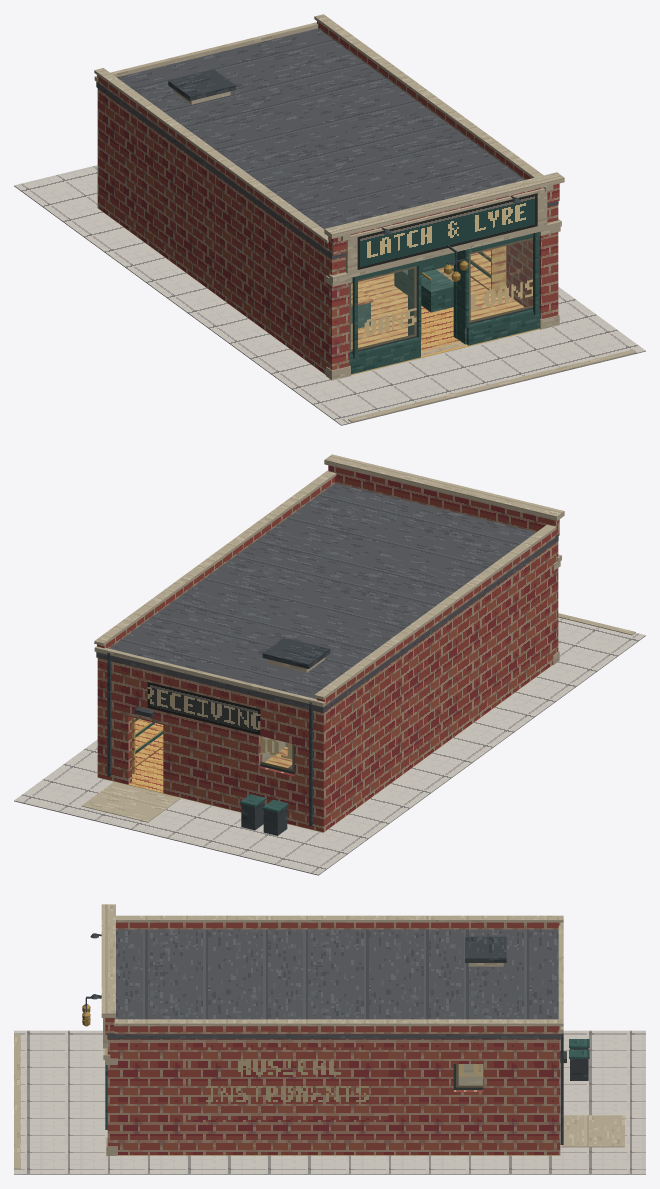
Rendered from latch-and-lyre-1920-mid.glb.
3 views of the same model, one above another, from view 1: azimuth 30°, elevation 25°; view 2: azimuth 150°, elevation 25°; view 3: azimuth 270°, elevation 25° (orthographic). The views are drawn at different scales.
Parts seen in each view (by area): view 1: shell, lot, sign_name, fixed_interior, display_window_east, display_window_west, display_jewellery, display_east; view 2: shell, lot, fixed_interior, display_stockroom; view 3: shell, lot, fixed_interior.
Boxes of the visible parts, x1,y1,x2,y2 form: shell: [94, 14, 564, 380]; lot: [14, 165, 645, 425]; sign_name: [357, 193, 537, 269]; fixed_interior: [98, 208, 539, 375]; display_window_east: [469, 237, 532, 324]; display_window_west: [349, 266, 417, 353]; display_jewellery: [394, 267, 453, 312]; display_east: [470, 246, 506, 297]; shell: [94, 454, 564, 832]; lot: [14, 613, 645, 875]; fixed_interior: [97, 665, 552, 832]; display_stockroom: [132, 717, 163, 774]; shell: [82, 904, 566, 1155]; lot: [14, 1030, 645, 1174]; fixed_interior: [118, 1064, 560, 1155].
Bounding box in the file's own units: 10.5 × 4.92 × 19.55.
12 materials, 12 textured.
